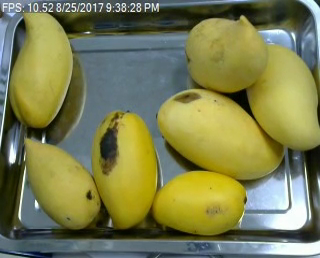Mango: (152, 83, 290, 180), (83, 103, 162, 228), (5, 6, 81, 129), (17, 131, 102, 229), (242, 44, 319, 151), (145, 169, 256, 238), (185, 11, 267, 97)
